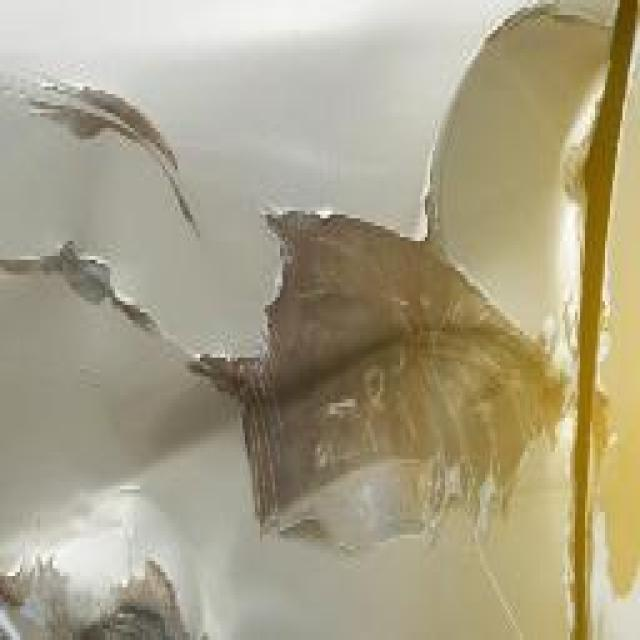Door: (0, 8, 595, 640)
